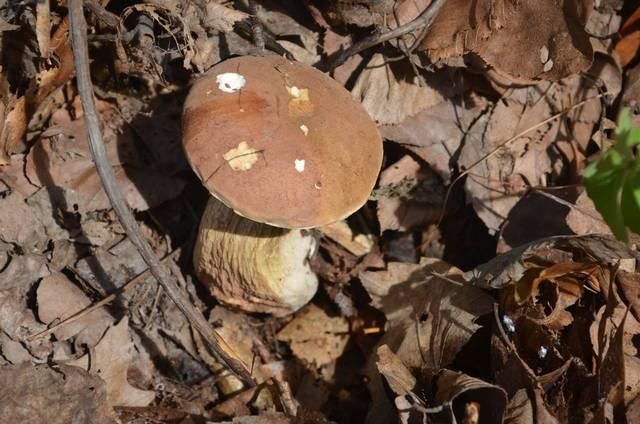Non-edible Mushroom: (179, 52, 384, 317)
